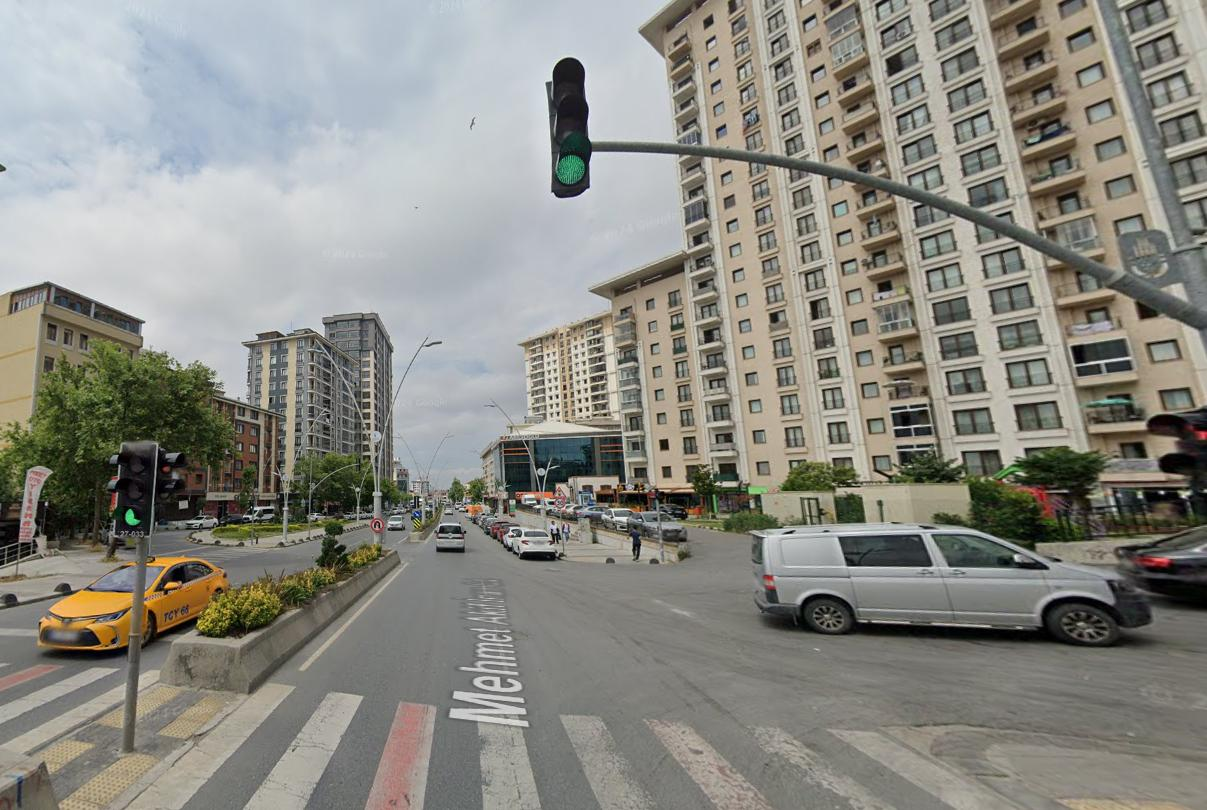greenlight: (549, 57, 591, 190), (118, 444, 152, 527)
